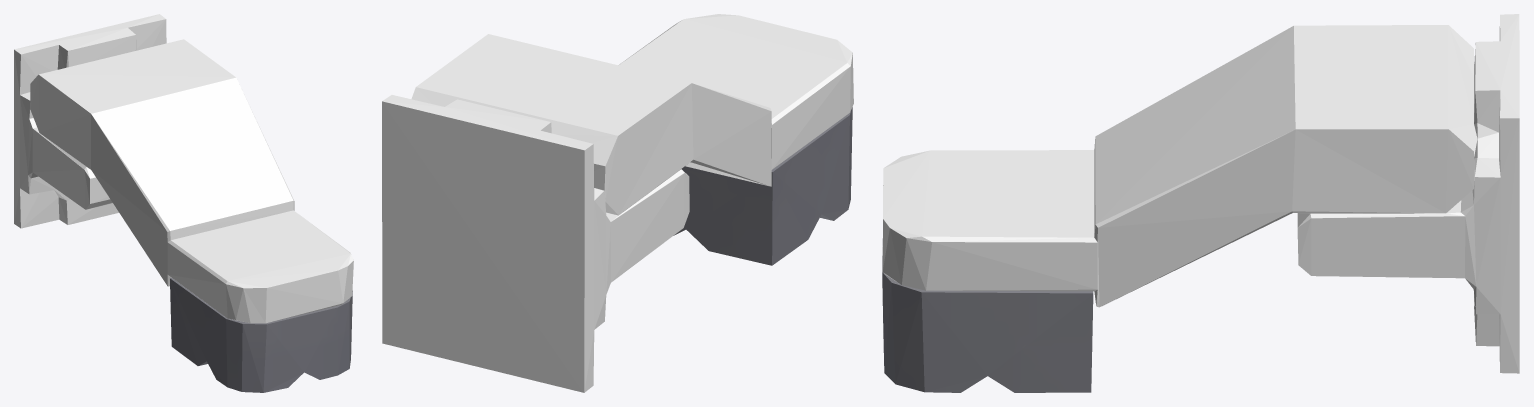
File: finger.glb
3 views of the same model, side by side, from view 1: azimuth 30°, elevation 25°; view 2: azimuth 150°, elevation 25°; view 3: azimuth 270°, elevation 25° (orthographic). The views are drawn at different scales.
Parts seen in each view (by area): view 1: node1_Part__Feature001.001, node0_Part__Feature.008; view 2: node1_Part__Feature001.001, node0_Part__Feature.008; view 3: node1_Part__Feature001.001, node0_Part__Feature.008.
Part boxes in pixels (left/top/right/bottom): node1_Part__Feature001.001: left=14, top=14, right=353, bottom=323; node0_Part__Feature.008: left=170, top=278, right=352, bottom=392; node1_Part__Feature001.001: left=382, top=14, right=853, bottom=392; node0_Part__Feature.008: left=673, top=107, right=852, bottom=265; node1_Part__Feature001.001: left=882, top=14, right=1519, bottom=373; node0_Part__Feature.008: left=882, top=238, right=1093, bottom=392.
Size of the model in its own units: 0.021 by 0.0264 by 0.0538.
2 materials, 2 textured.
